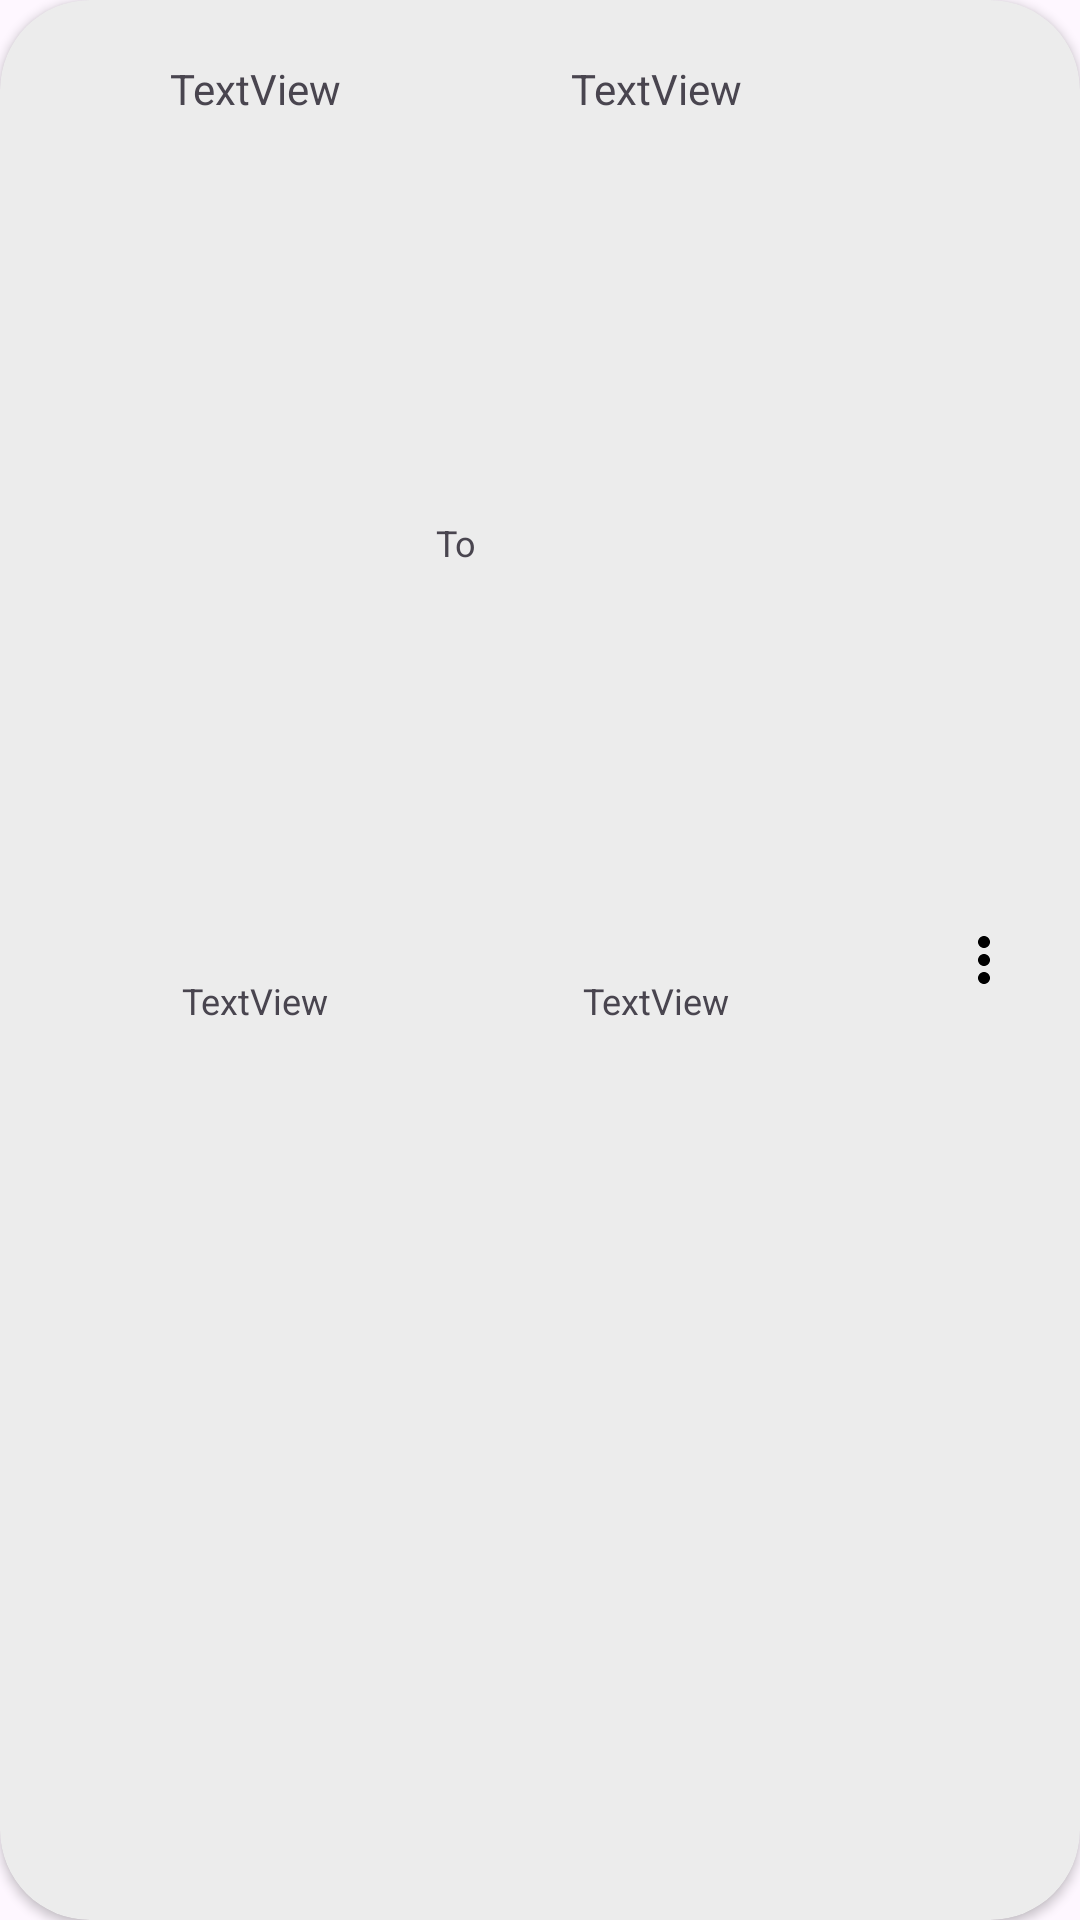

Screen size 1080px x 1920px. Icon name, then its center in pixels as (x,y):
more: (984,960)
